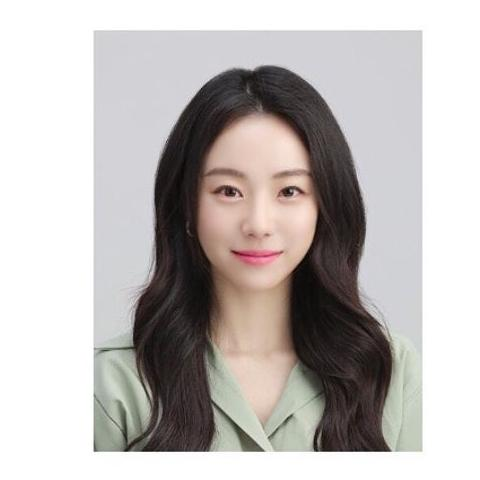opened: (196, 162, 318, 214)
